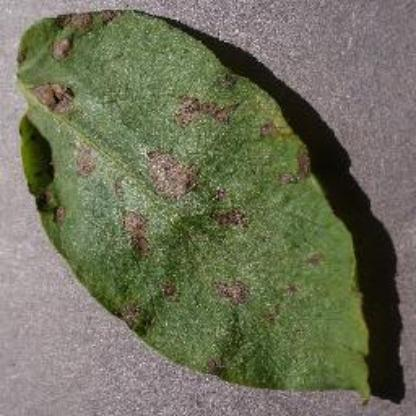Early-Blight: (14, 5, 390, 408)
